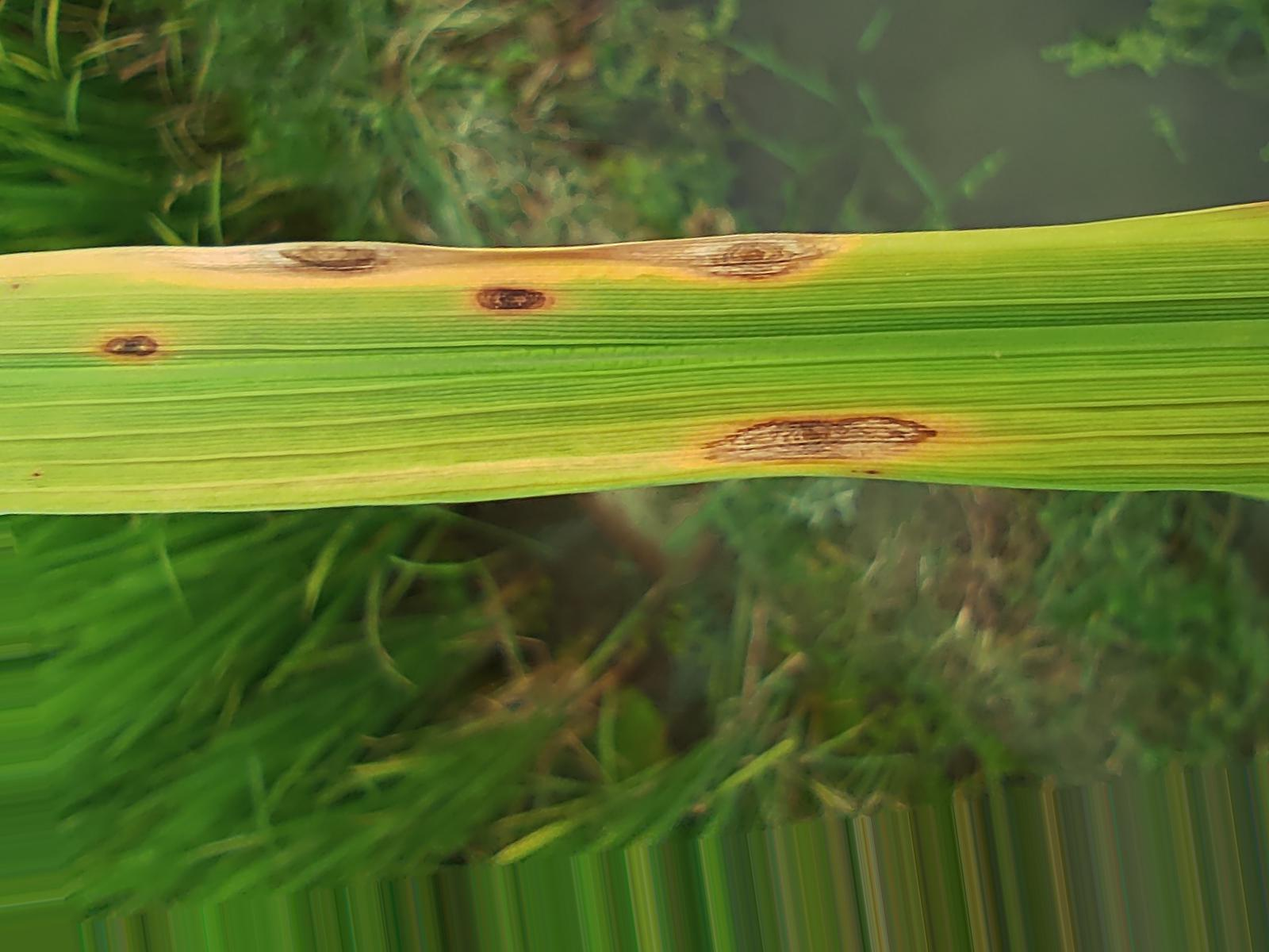LEAF: (0, 202, 1268, 513)
NBS: (498, 234, 857, 281), (695, 412, 944, 466), (469, 286, 559, 317), (279, 244, 381, 271), (100, 331, 167, 363), (850, 470, 884, 474), (31, 472, 45, 477), (11, 283, 20, 290)
